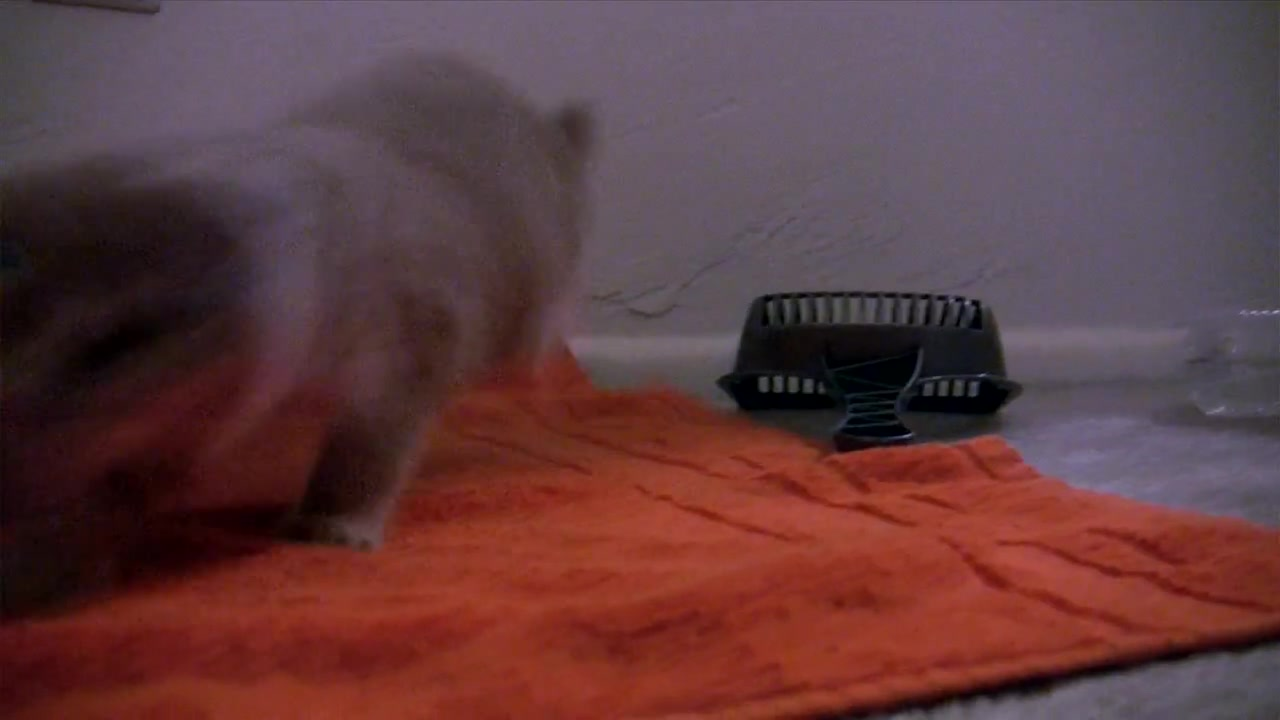cat: (1, 42, 605, 570)
